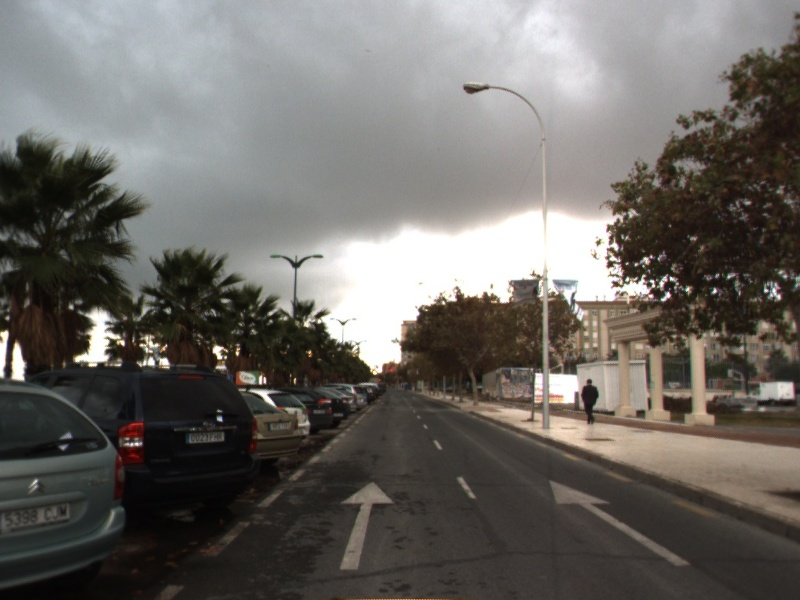STRAIGHT: (548, 478, 693, 567), (337, 480, 397, 572)
